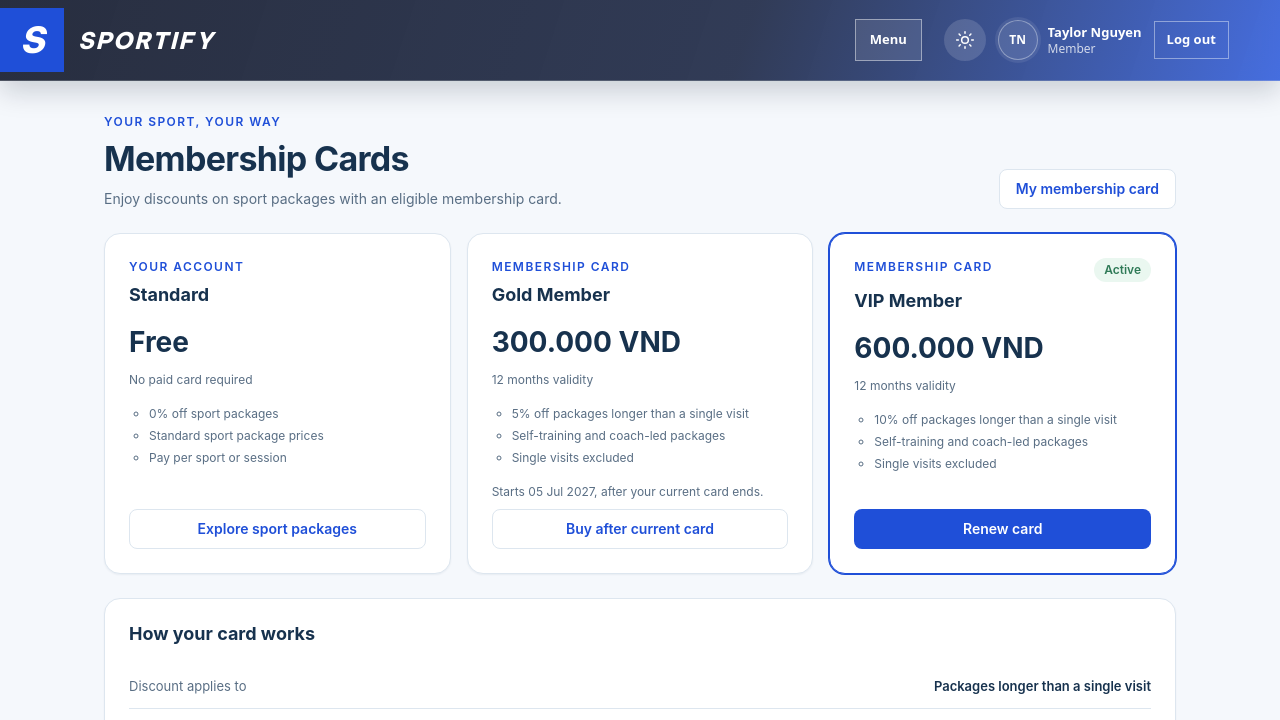
FE-04 Membership Cards (F1-11) › TC-FE04-032 renew: VIP member sees Renew card, term starts the day after the current end
This screenshot has width=1280, height=720.
Expected: the list named "Membership card tiers" is shown, left=104, top=233, right=1176, bottom=574
Expected: the text "Active" is shown, left=1094, top=258, right=1151, bottom=282
Click the button "Renew card" at [1003, 529], box left=854, top=509, right=1151, bottom=549
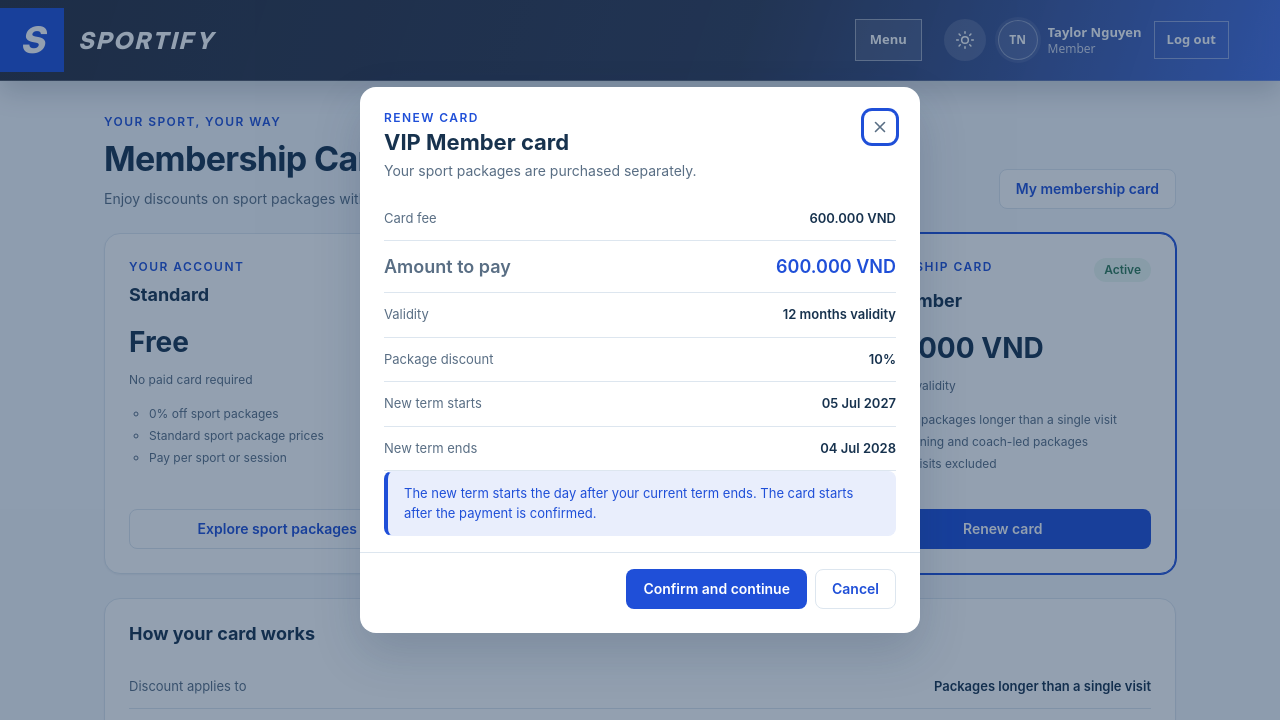
Expected: the text "Renew card" is shown, left=384, top=110, right=479, bottom=125
Expected: the text with test id "card-amount" reads "600.000 VND", left=776, top=256, right=896, bottom=277
Expected: the text with test id "card-start" reads "05 Jul 2027", left=822, top=395, right=896, bottom=411
